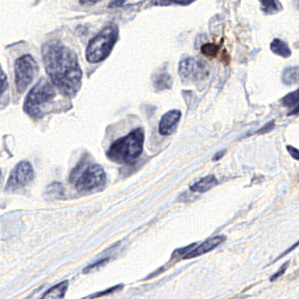Lymphocyte: (200, 42, 222, 58)
